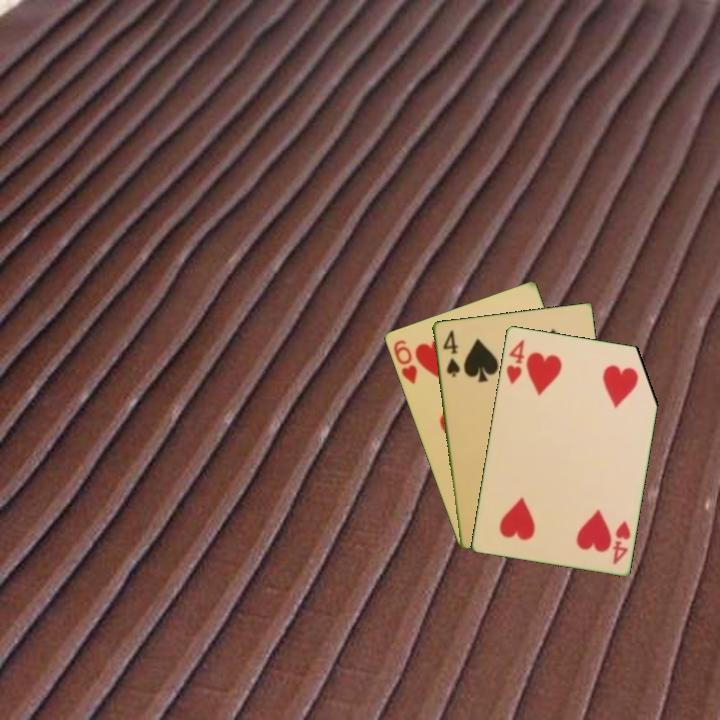4h: (502, 336, 527, 387), (609, 517, 633, 567)
4s: (439, 326, 462, 380)
6h: (389, 336, 420, 387)
